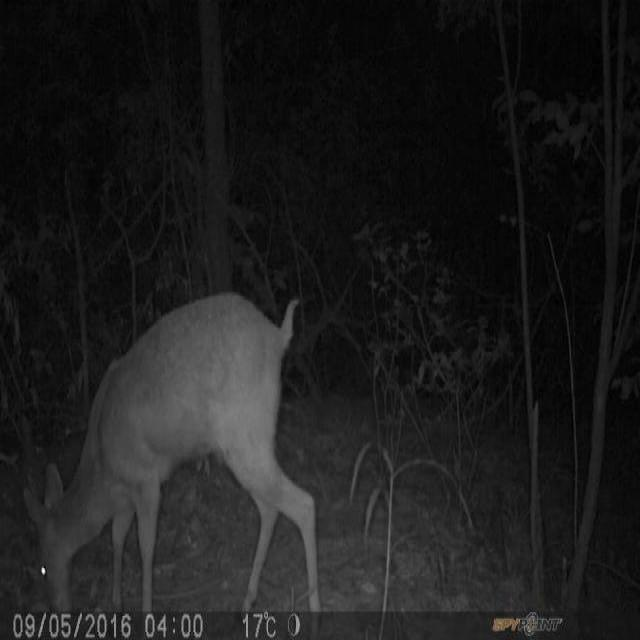deer: (24, 287, 319, 609)
